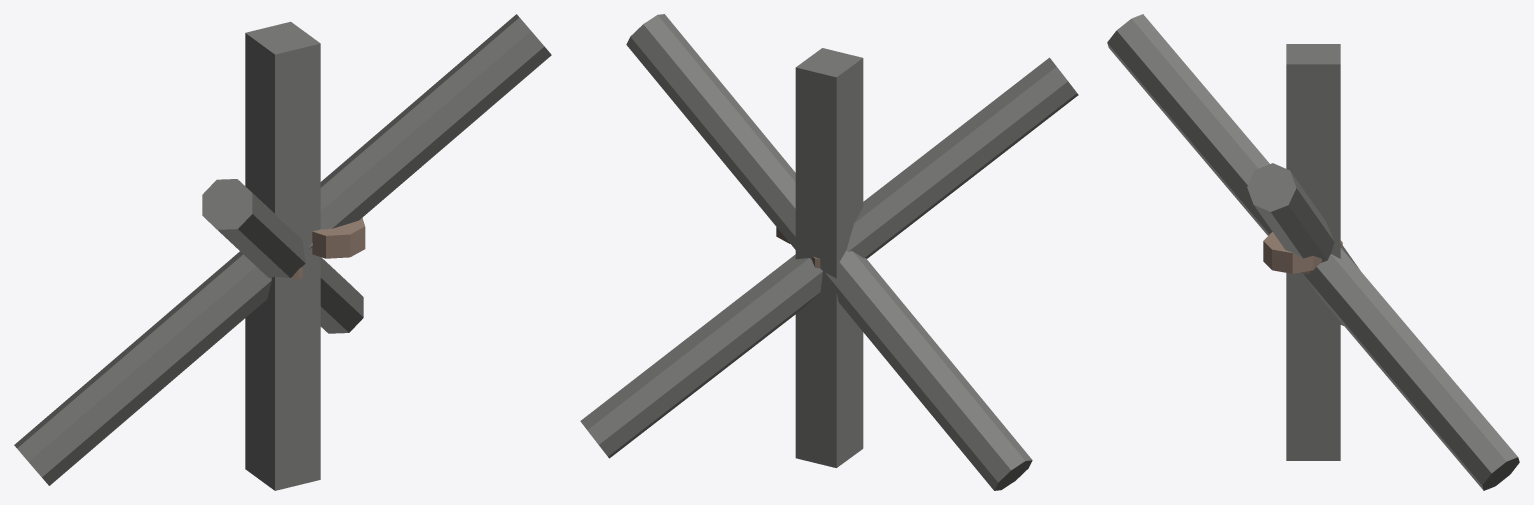
Rendered from tschechenigel_stahl.glb.
3 views of the same model, side by side, from view 1: azimuth 30°, elevation 25°; view 2: azimuth 150°, elevation 25°; view 3: azimuth 270°, elevation 25° (orthographic). The views are drawn at different scales.
Parts seen in each view (by area): view 1: tschechenigel_stahl_001, tschechenigel_stahl_000, tschechenigel_stahl_002, tschechenigel_stahl_004; view 2: tschechenigel_stahl_002, tschechenigel_stahl_001, tschechenigel_stahl_000; view 3: tschechenigel_stahl_002, tschechenigel_stahl_000, tschechenigel_stahl_001, tschechenigel_stahl_004.
Boxes of the visible parts, x1,y1,x2,y2 form: tschechenigel_stahl_001: (14,14,551,485); tschechenigel_stahl_000: (245,21,320,490); tschechenigel_stahl_002: (202,179,363,333); tschechenigel_stahl_004: (312,218,365,258); tschechenigel_stahl_002: (580,57,1078,458); tschechenigel_stahl_001: (626,14,1032,490); tschechenigel_stahl_000: (795,48,863,467); tschechenigel_stahl_002: (1107,14,1519,490); tschechenigel_stahl_000: (1286,44,1340,460); tschechenigel_stahl_001: (1247,163,1359,325); tschechenigel_stahl_004: (1263,232,1321,273).
Bounding box in the file's own units: 2.44 × 2.1 × 1.98.
